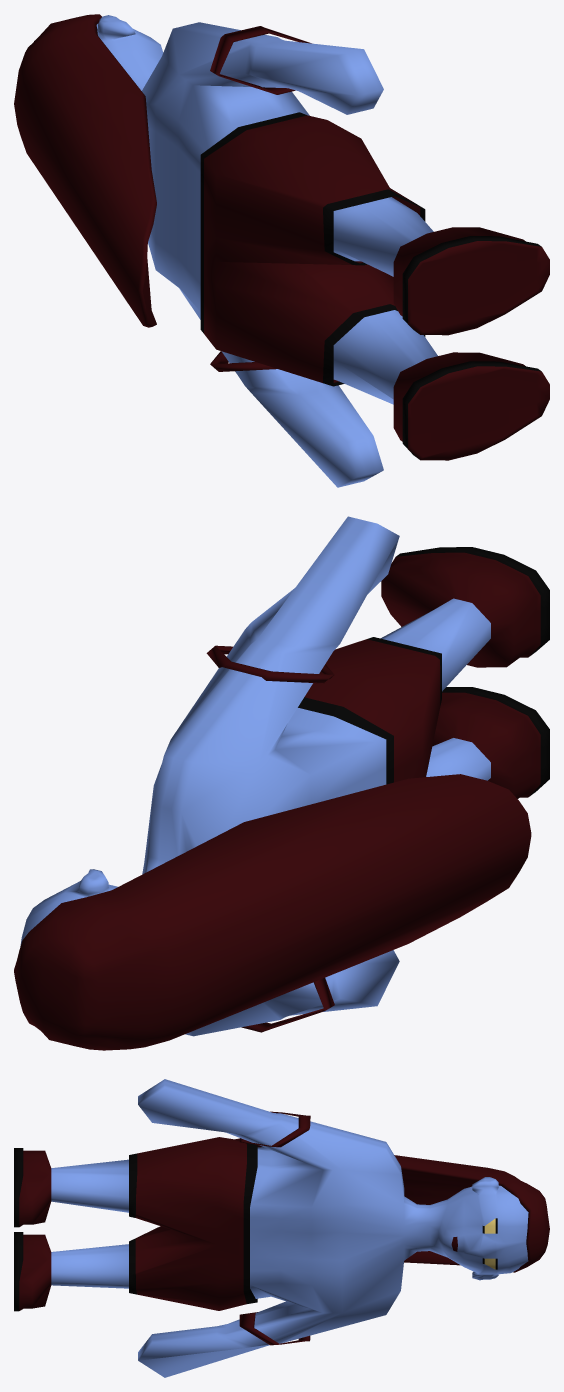
Rendered from Standart.fbx.
3 renders of one model, top to bottom at view 1: azimuth 30°, elevation 25°; view 2: azimuth 150°, elevation 25°; view 3: azimuth 270°, elevation 25°, orthographic. The views are drawn at different scales.
Parts seen in each view (by area): view 1: Char normal; view 2: Char normal; view 3: Char normal.
Boxes of the visible parts, box(x1,y1,x2,y2) form: Char normal: box(14, 14, 549, 487); Char normal: box(14, 516, 549, 1050); Char normal: box(14, 1079, 549, 1377).
Size of the model in its own units: 0.7007 by 1.8 by 1.08.
